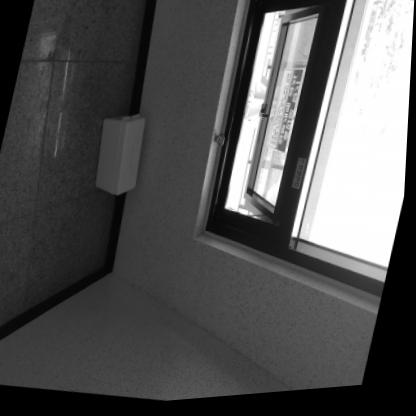DDL: (88, 108, 152, 202)
